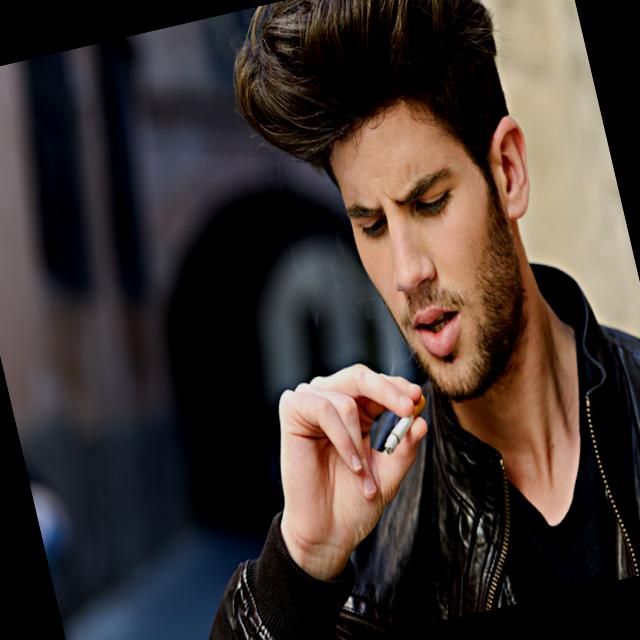cigarette: (376, 408, 421, 459)
